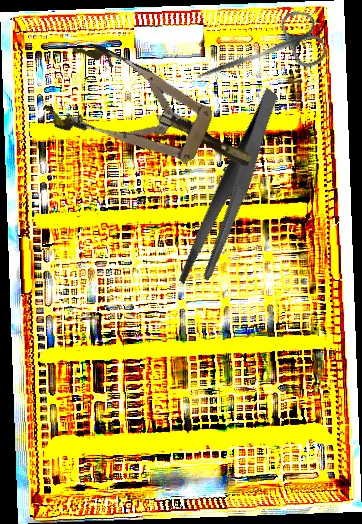Dressing Forceps: (140, 87, 324, 295)
Iris Scissors: (187, 5, 331, 107)
Speculum: (38, 35, 268, 205)
